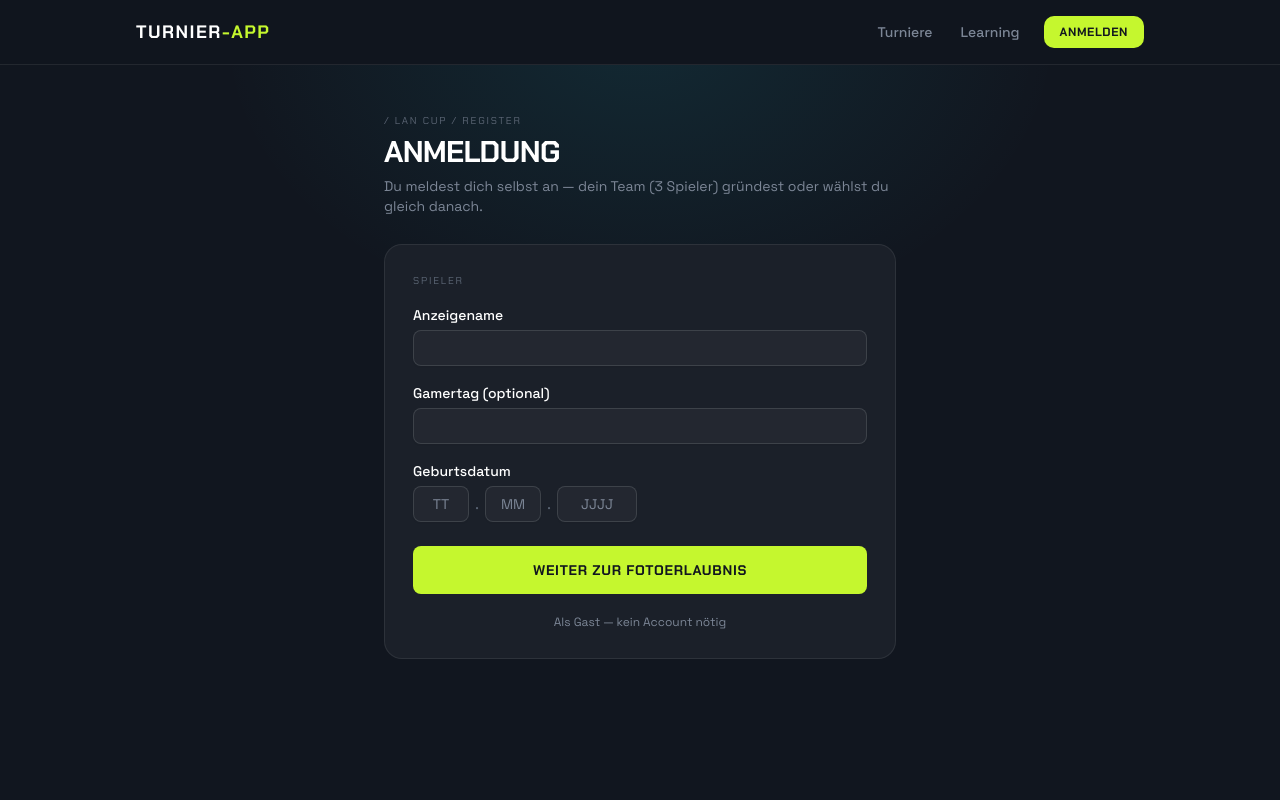
it: RegisterClient Schrittfolge › führt im Teamturnier nach der Fotoerlaubnis in den Team-Schritt
Type "Ada" into the field labelled "Anzeigename" at (640, 348), box [413,330,867,366]
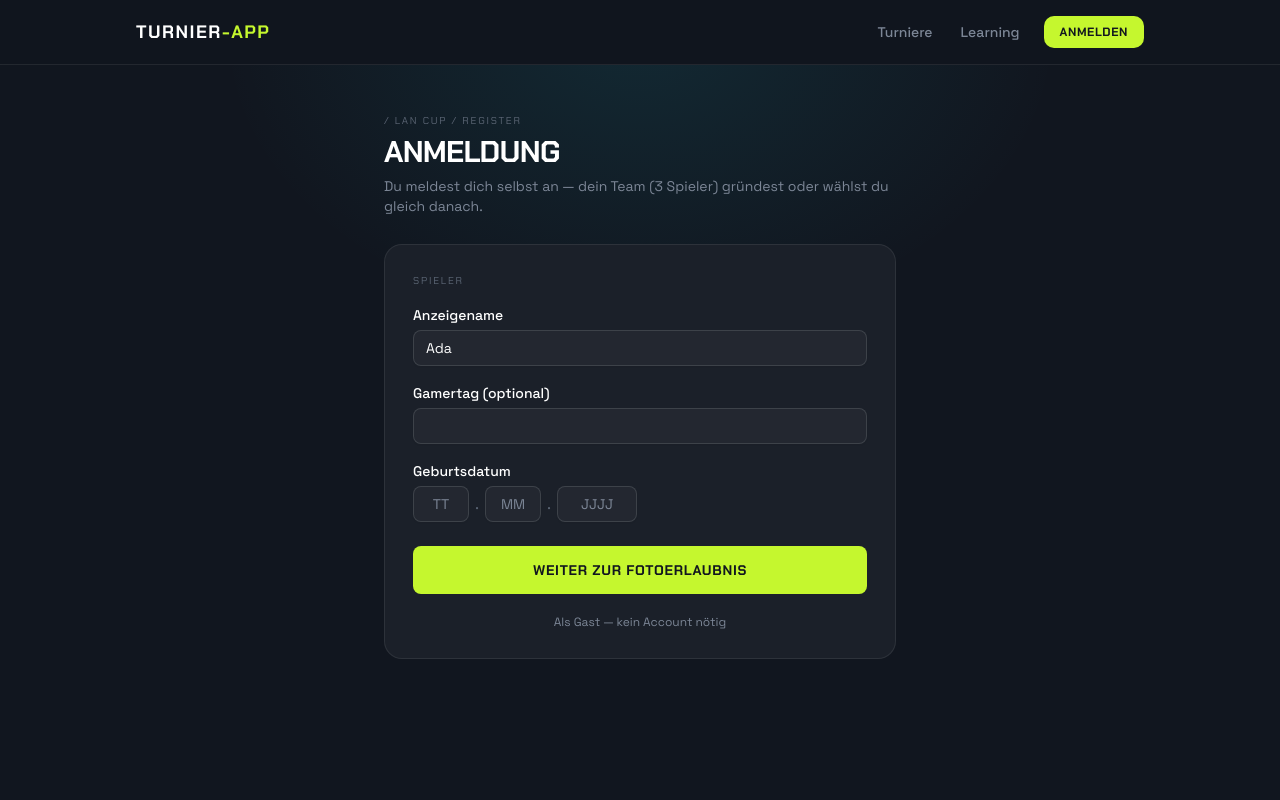
Type "2000-05-04" into the field labelled "Geburtsdatum" at (441, 504), box [413,486,469,522]
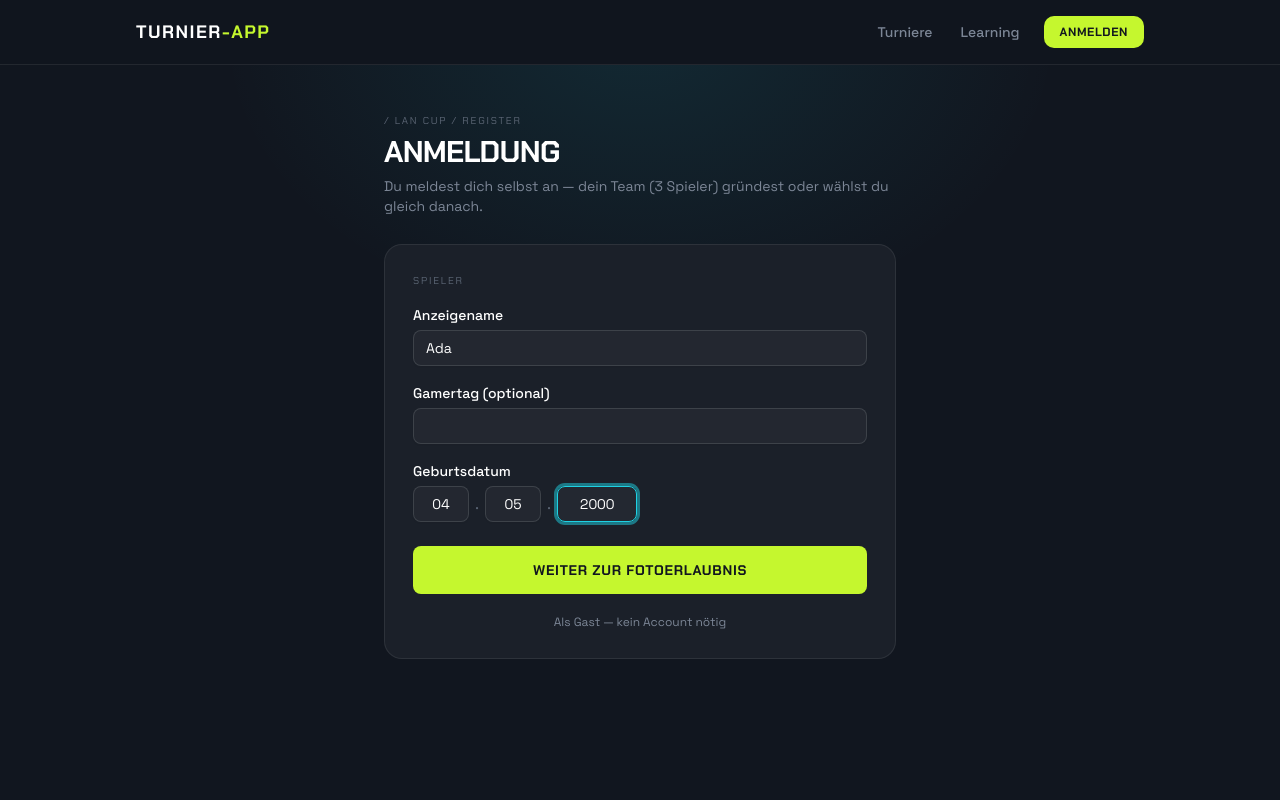
Click the button "Weiter zur Fotoerlaubnis" at (640, 570), box [413,546,867,594]
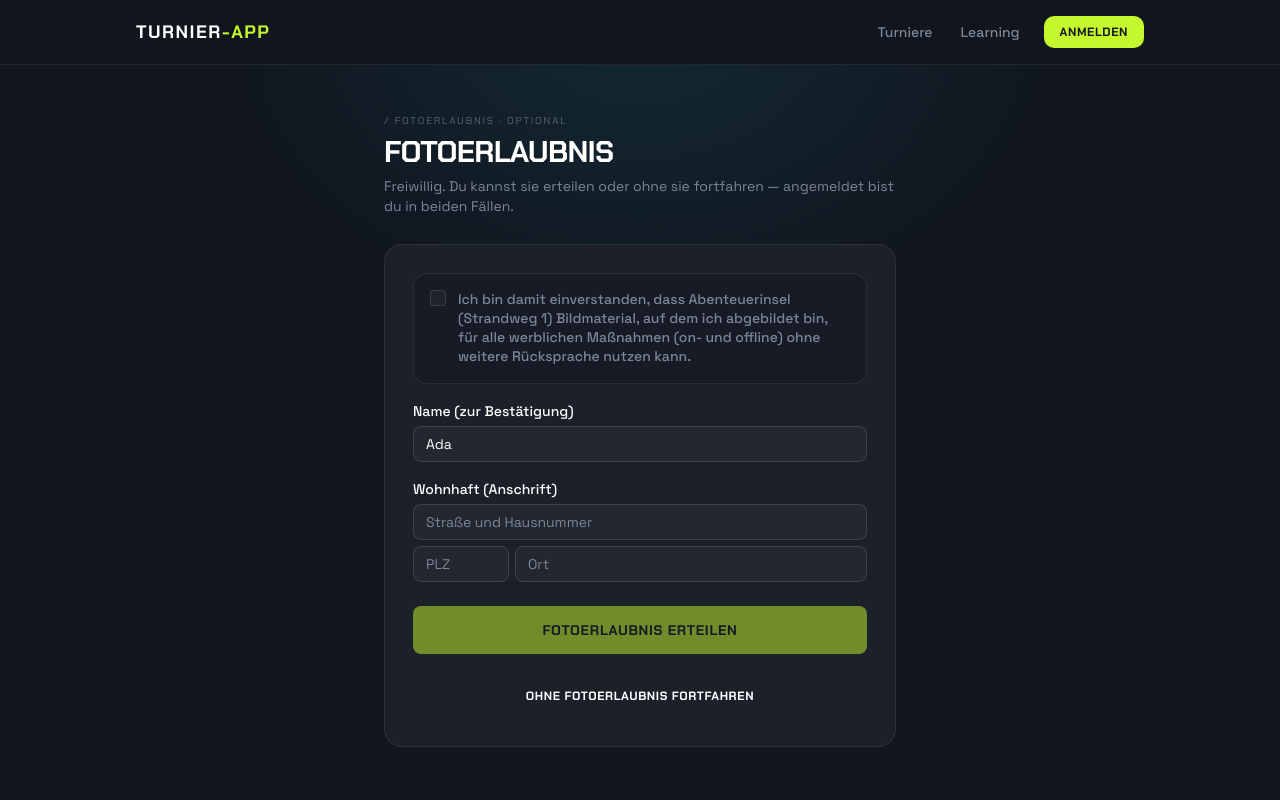
Click the button "Ohne Fotoerlaubnis fortfahren" at (640, 696), box [413,674,867,718]
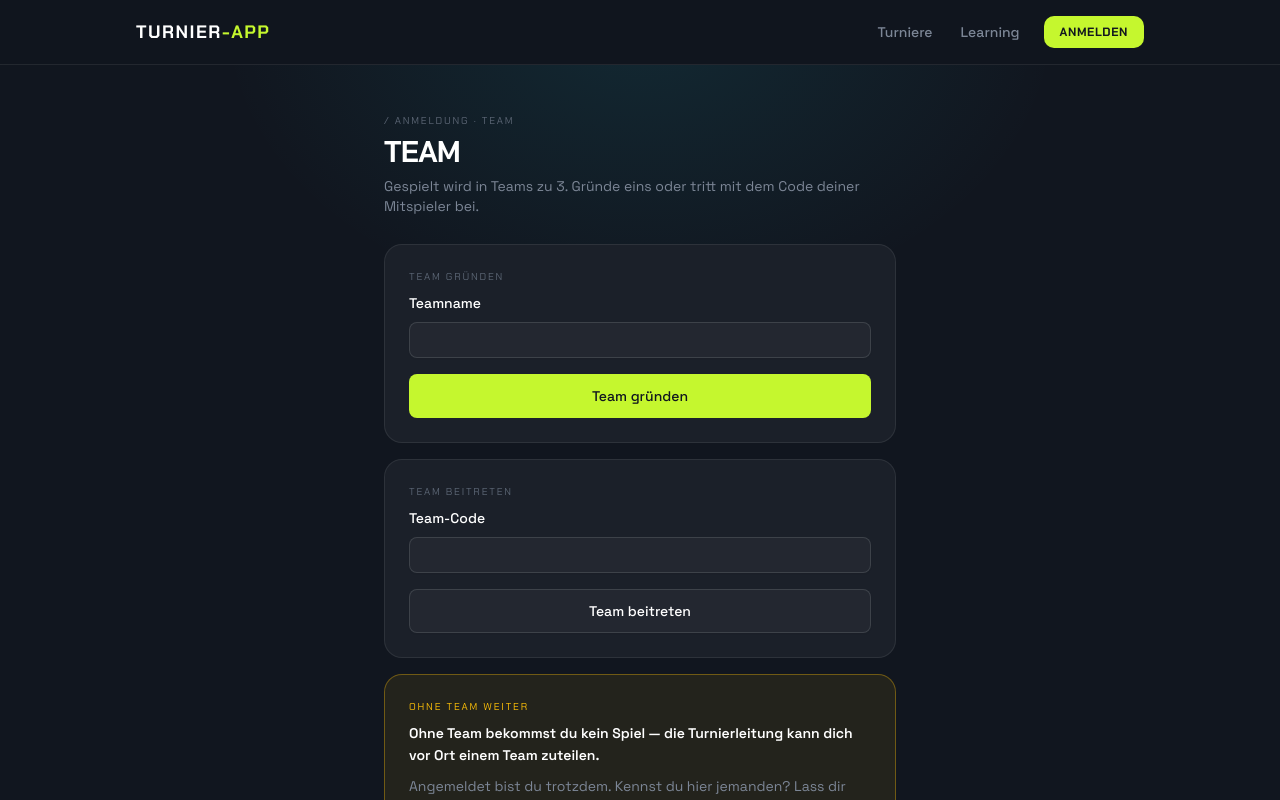
Now the button "Team gründen" is shown, box [409,374,871,418]
